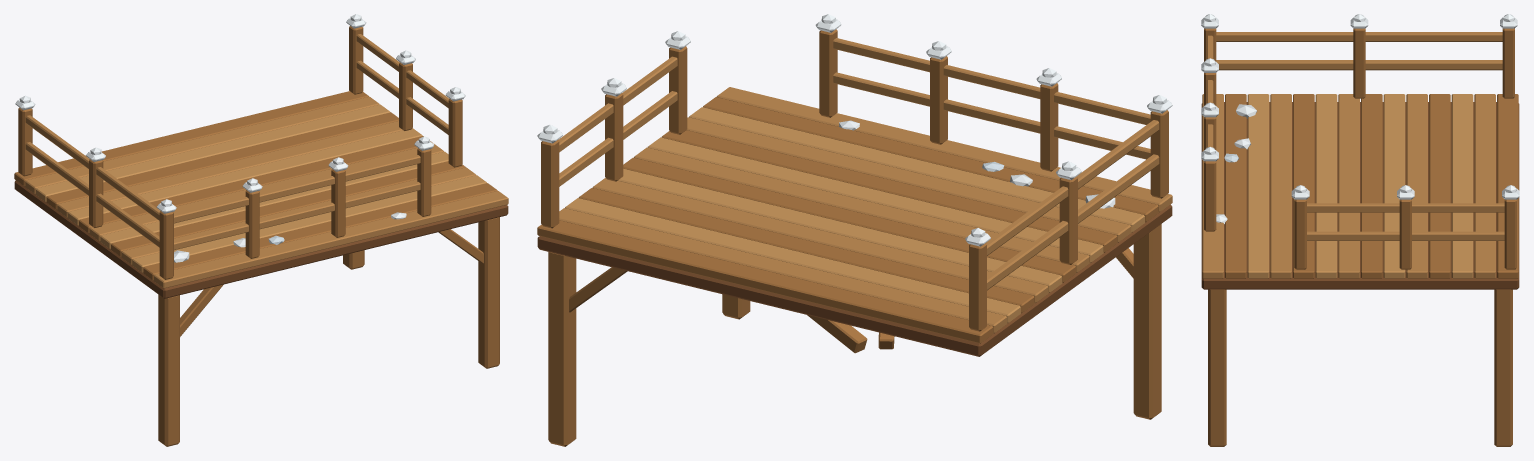
Rendered from mod_treehouse_deck.glb.
The picture shows the model from 3 angles, left to right: view 1: azimuth 30°, elevation 25°; view 2: azimuth 150°, elevation 25°; view 3: azimuth 270°, elevation 25°; orthographic projection. The views are drawn at different scales.
Parts seen in each view (by area): view 1: mod_treehouse_deck; view 2: mod_treehouse_deck; view 3: mod_treehouse_deck.
Part boxes in pixels (x1=…): mod_treehouse_deck: x1=14, y1=14, x2=508, y2=446; mod_treehouse_deck: x1=537, y1=14, x2=1172, y2=446; mod_treehouse_deck: x1=1201, y1=14, x2=1519, y2=446.
Size of the model in its own units: 4.06 by 2.78 by 3.06.
